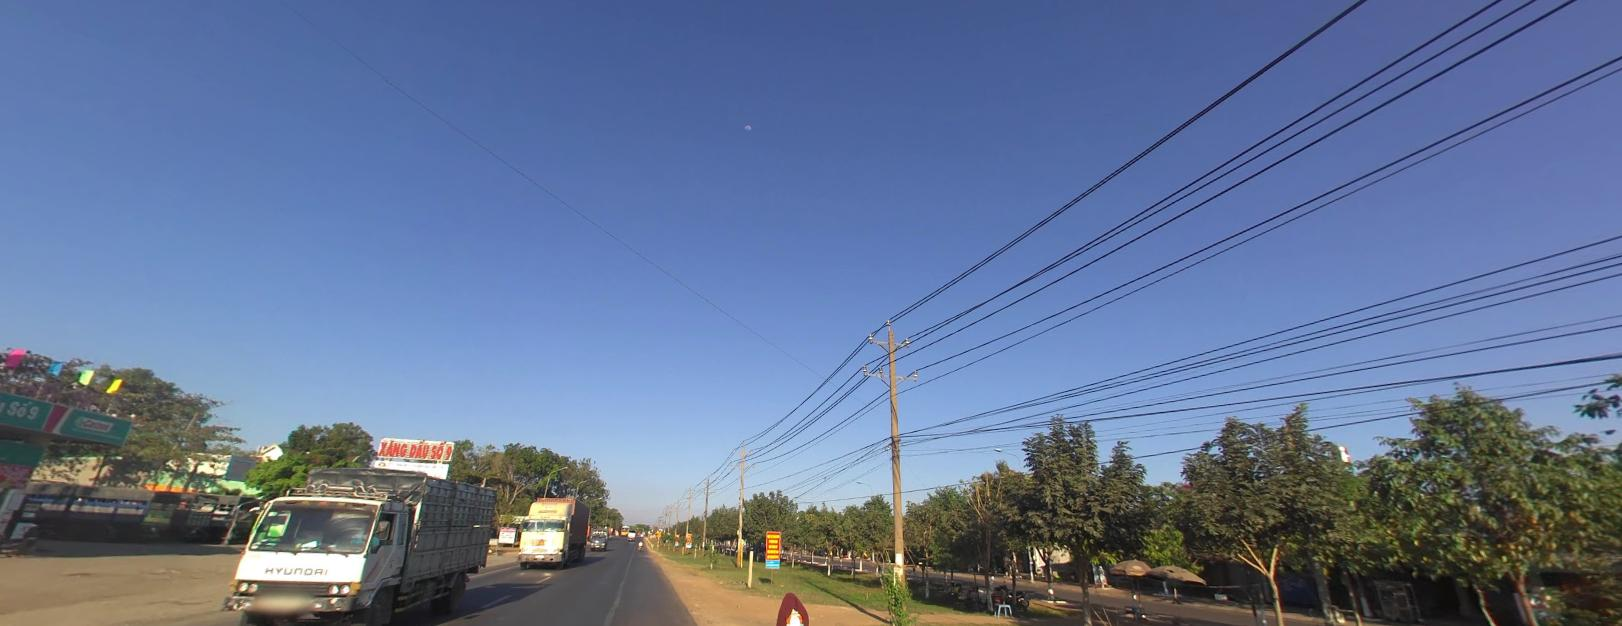Nguy hiem: (655, 529, 662, 536)
